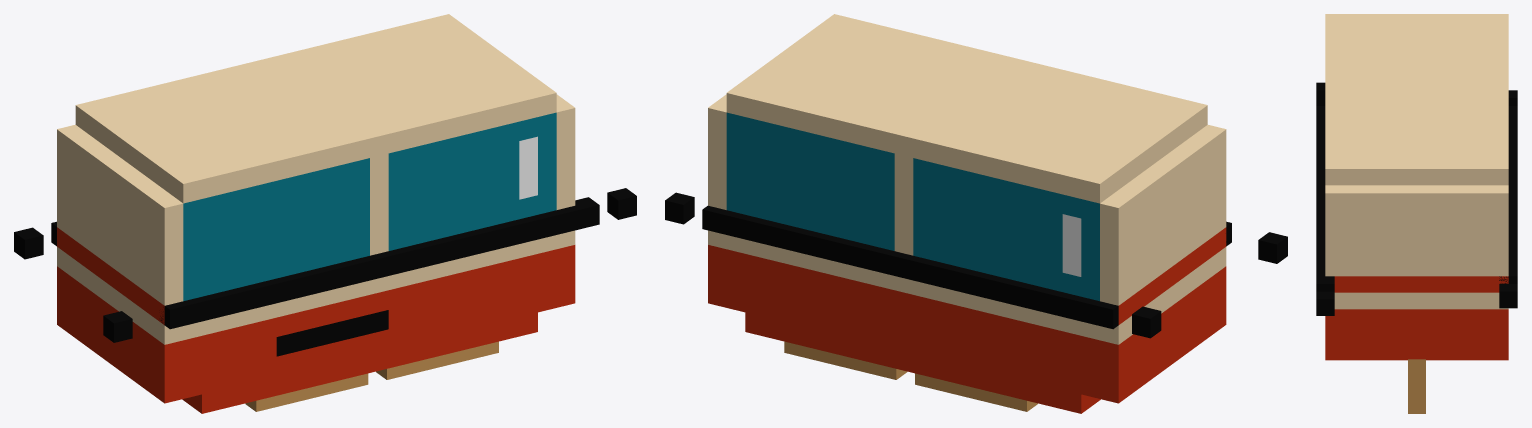
Rendered from skilift.glb.
3 renders of one model, left to right at view 1: azimuth 30°, elevation 25°; view 2: azimuth 150°, elevation 25°; view 3: azimuth 270°, elevation 25°, orthographic. The views are drawn at different scales.
Visible parts, largest first — view 1: base, mouth, rail, glasses; view 2: base, rail, glasses; view 3: base, rail, glasses.
Part boxes in pixels (x1,y1,x2,y2): base: [57, 14, 575, 413]; mouth: [183, 112, 556, 356]; rail: [14, 188, 636, 342]; glasses: [245, 341, 498, 411]; base: [708, 14, 1226, 413]; rail: [665, 192, 1287, 338]; glasses: [784, 341, 1037, 411]; base: [1325, 14, 1508, 360]; rail: [1316, 82, 1517, 315]; glasses: [1408, 359, 1425, 413].
Bounding box in the file's own units: 28 × 15 × 11.
Materials: 10 (10 with a texture image).
